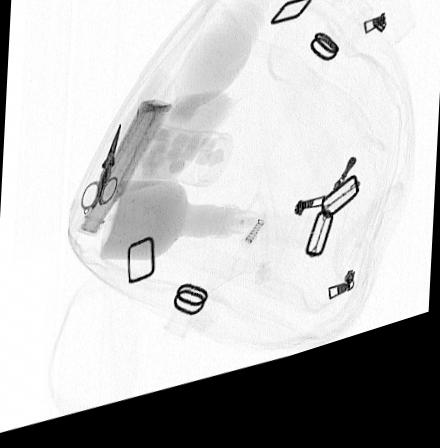Scissors: (78, 129, 121, 221)
